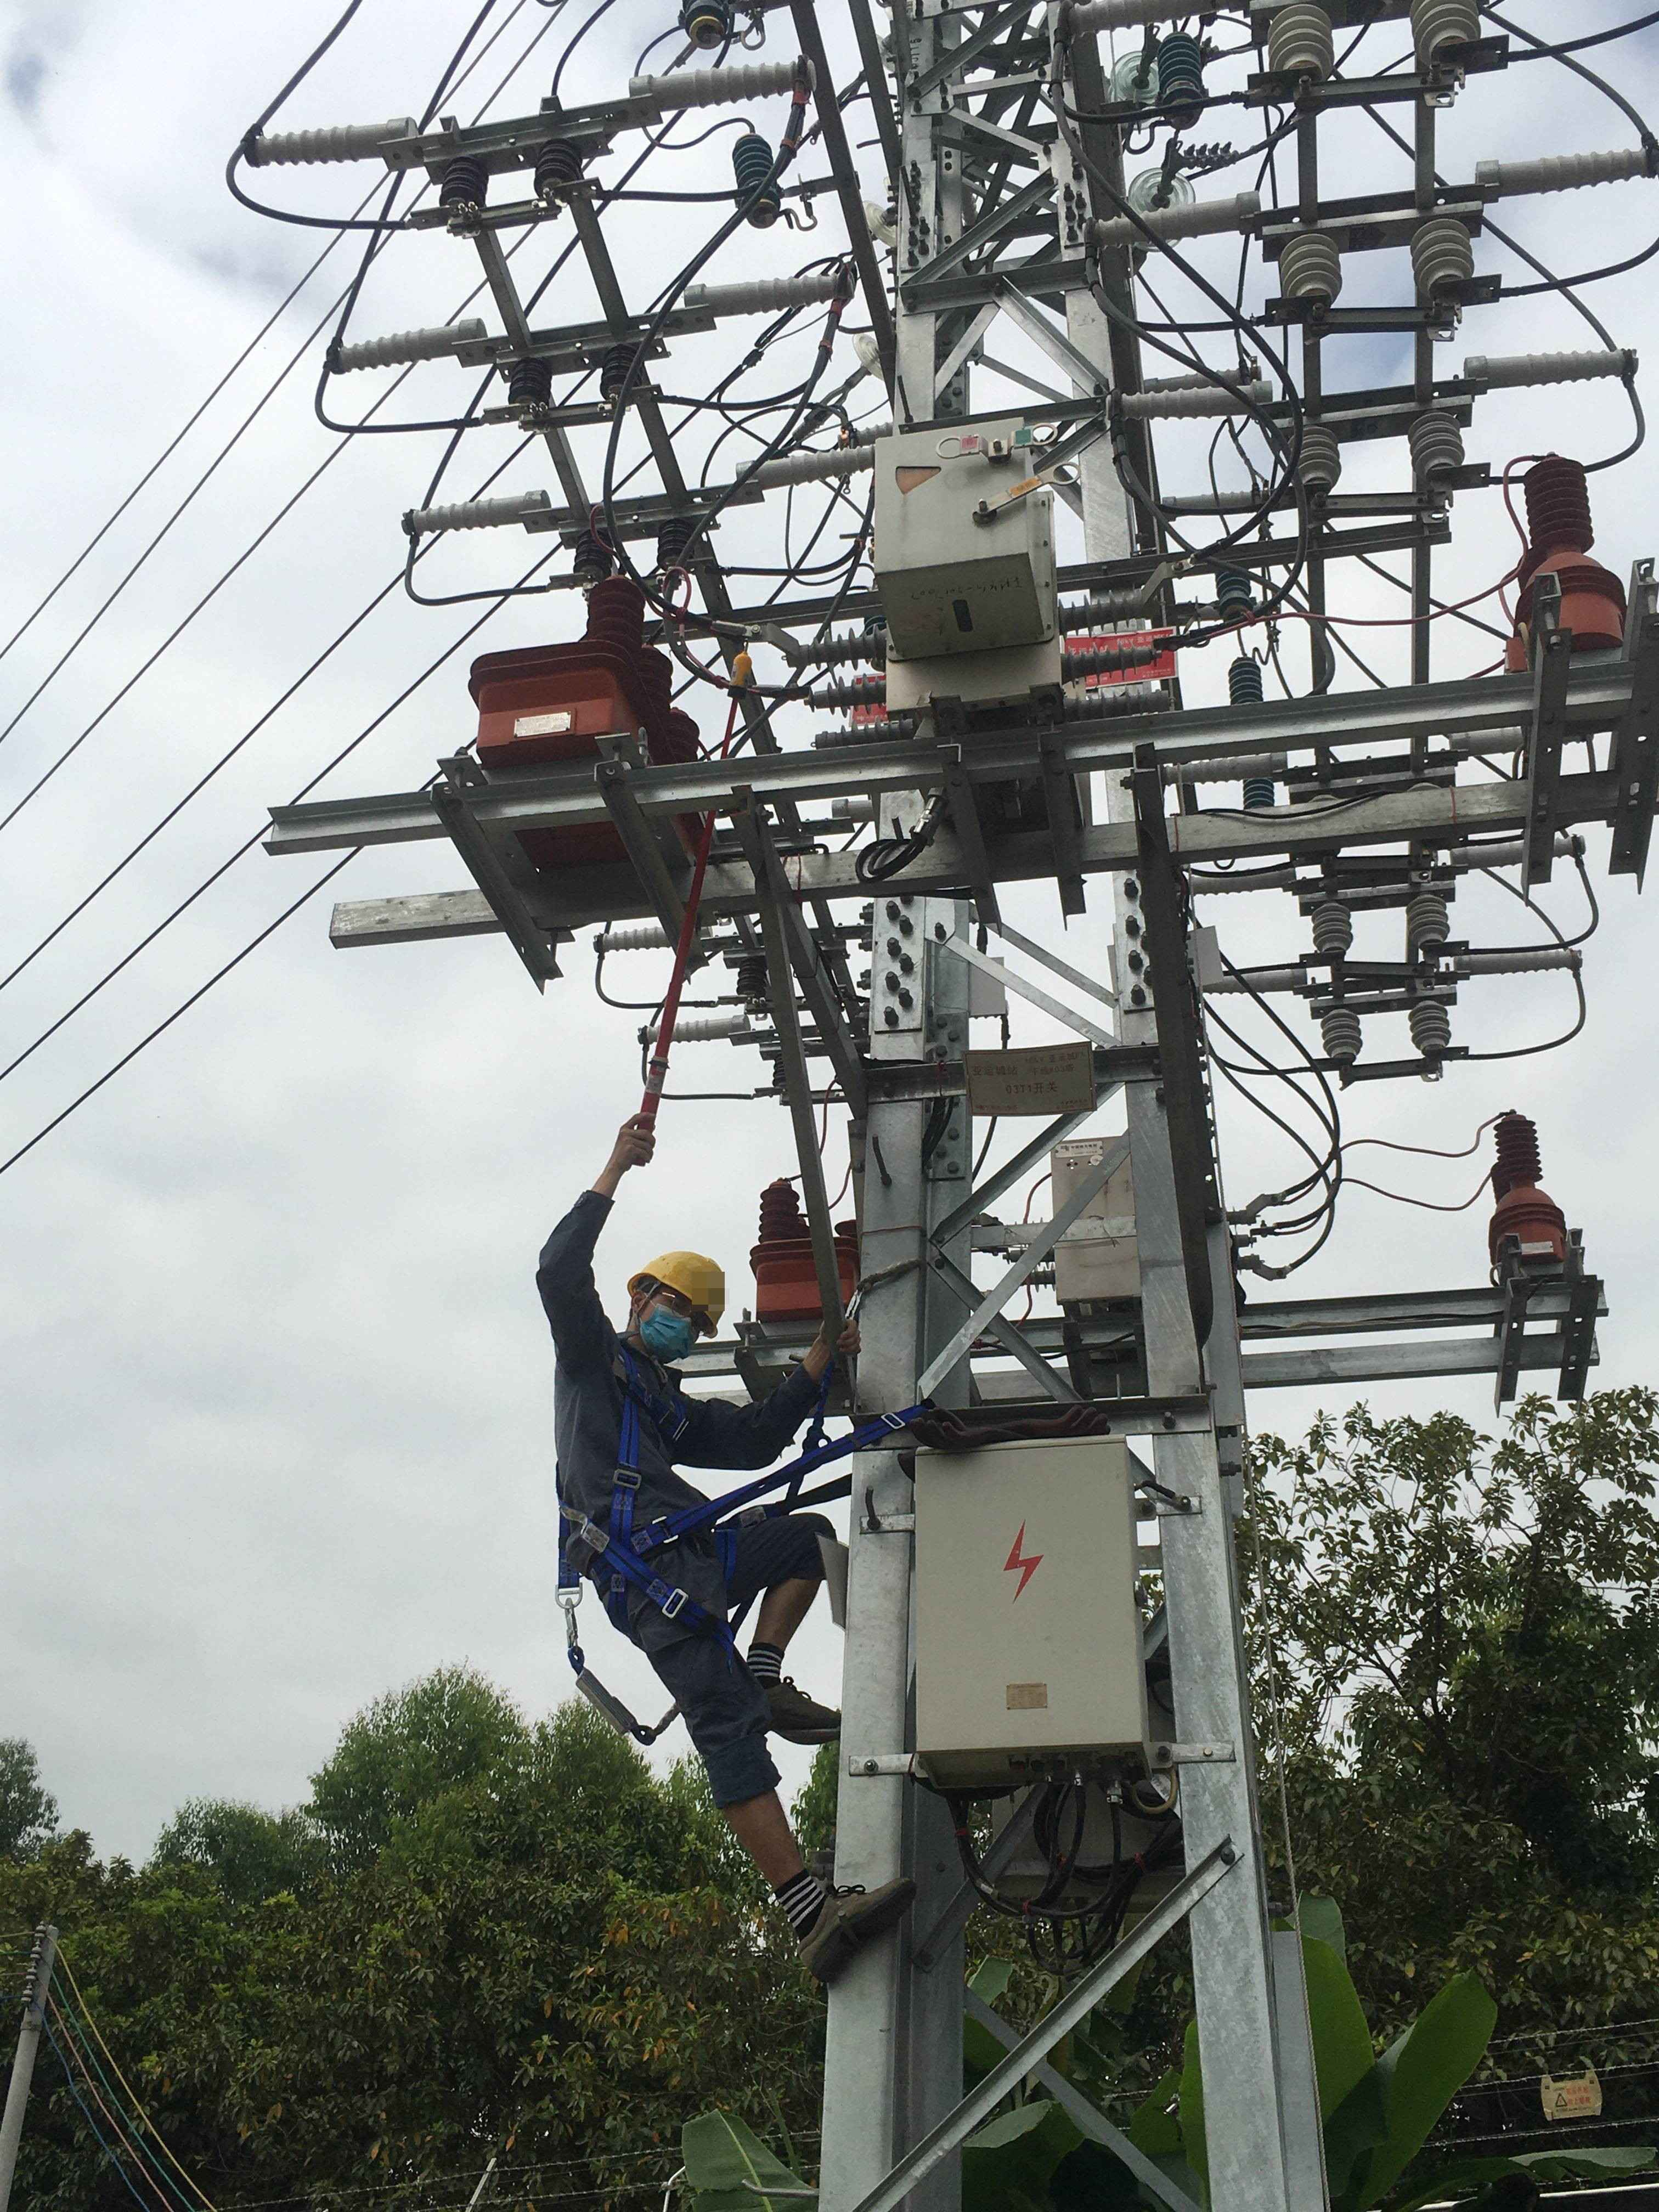downsuit: (591, 1521, 833, 1811)
upsuit: (547, 1322, 800, 1536)
wrongbottom: (706, 1742, 824, 1904), (748, 1536, 831, 1670)
